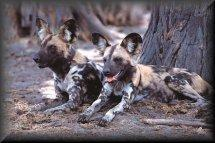African_hunting_dog: (75, 29, 214, 130), (16, 17, 104, 117)
